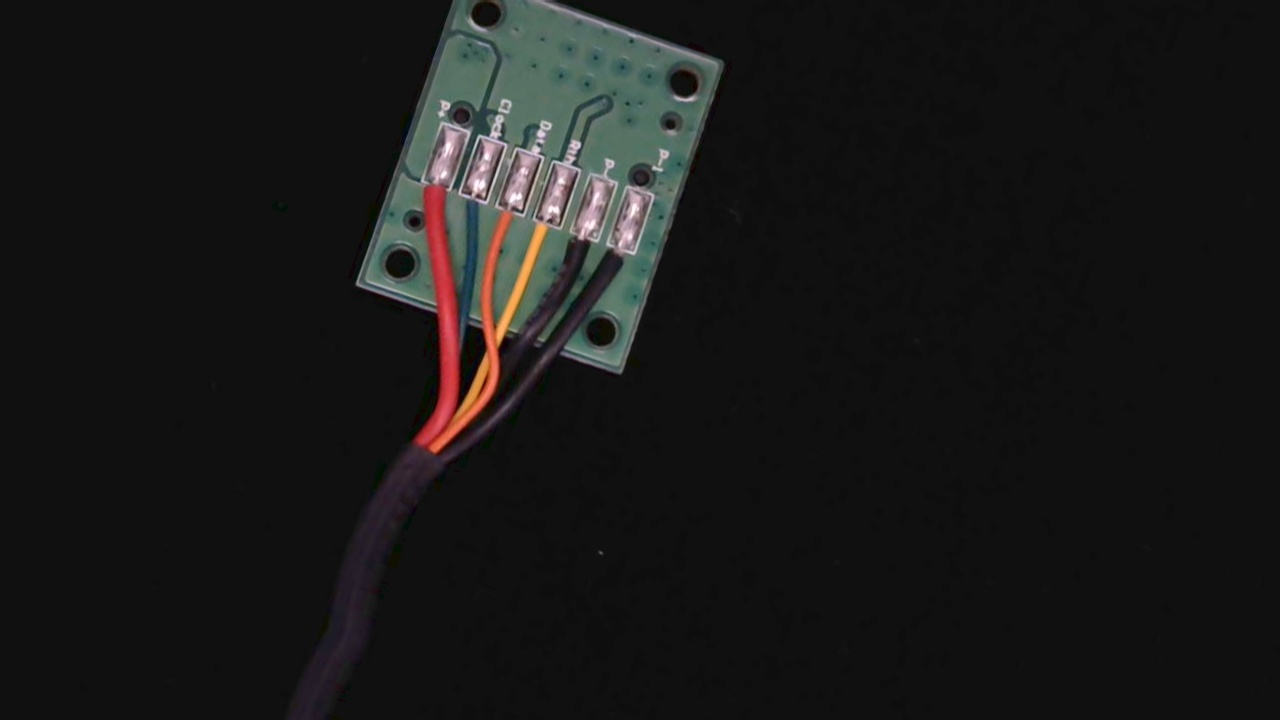Black: (551, 213, 605, 287)
Black1: (588, 229, 641, 303)
Green: (444, 177, 494, 244)
Orange: (480, 187, 529, 256)
Red: (406, 164, 457, 237)
Yellow: (516, 199, 568, 273)
